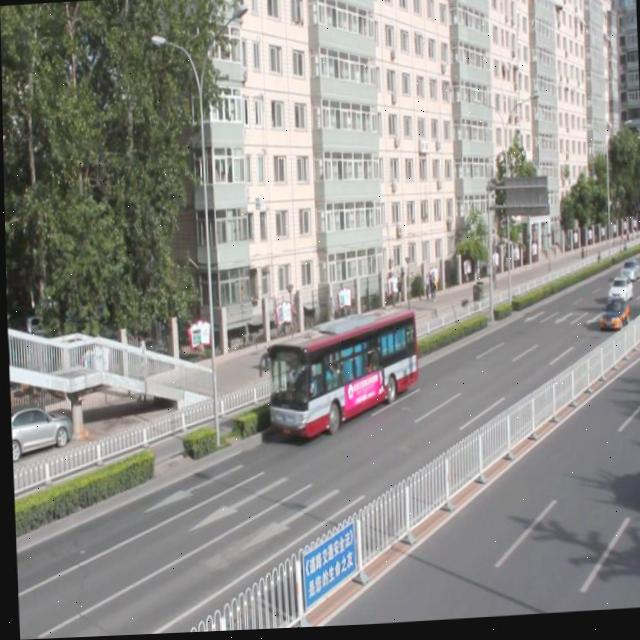van: (265, 312, 416, 441)
